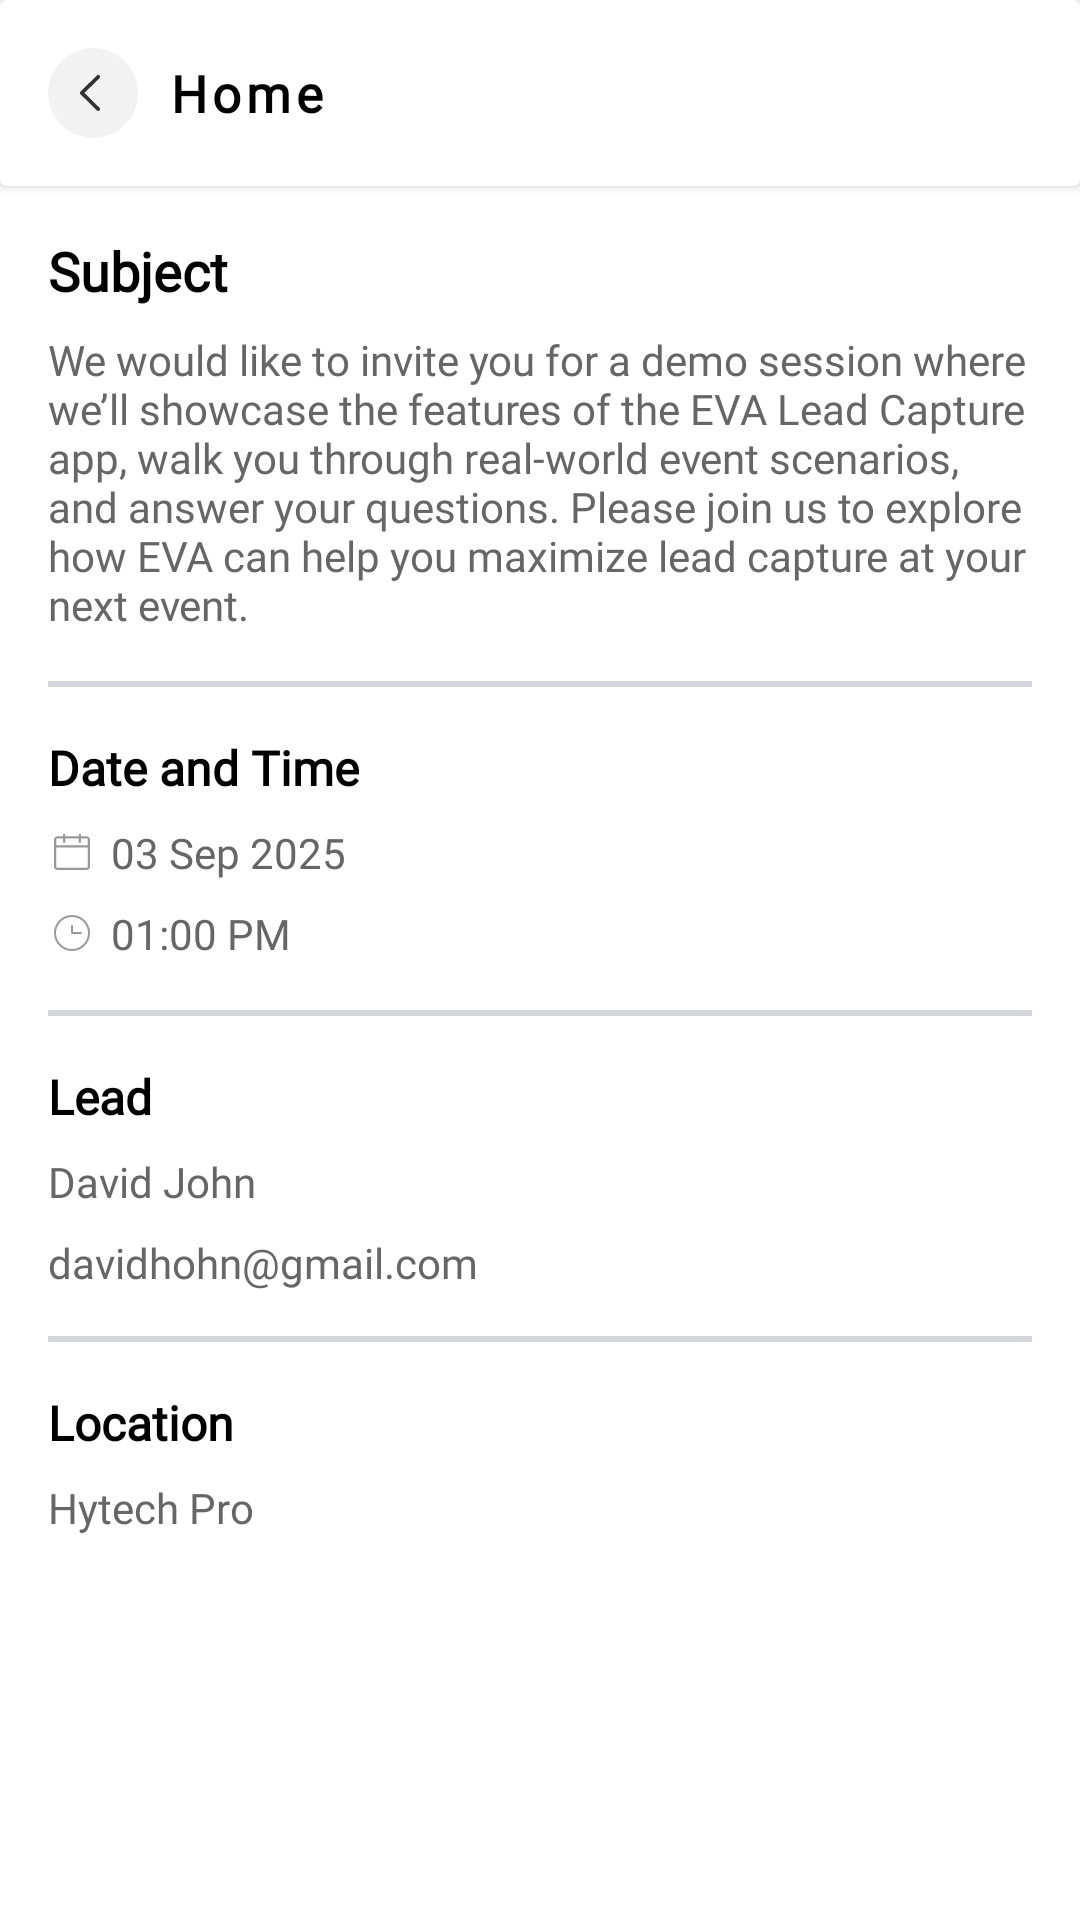

Icons on this 1080*1920 Android screen, each with the point to tap as [x,y]:
back: [93,93]
